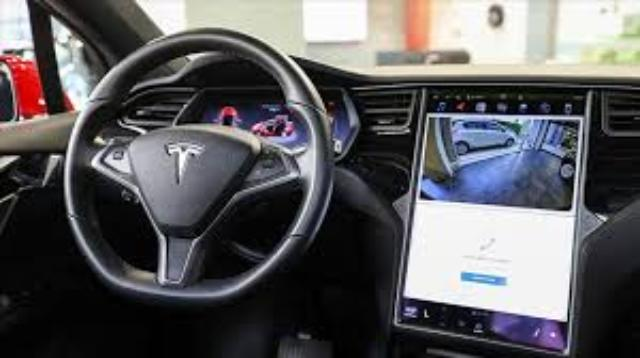tesla: (75, 17, 341, 188)
